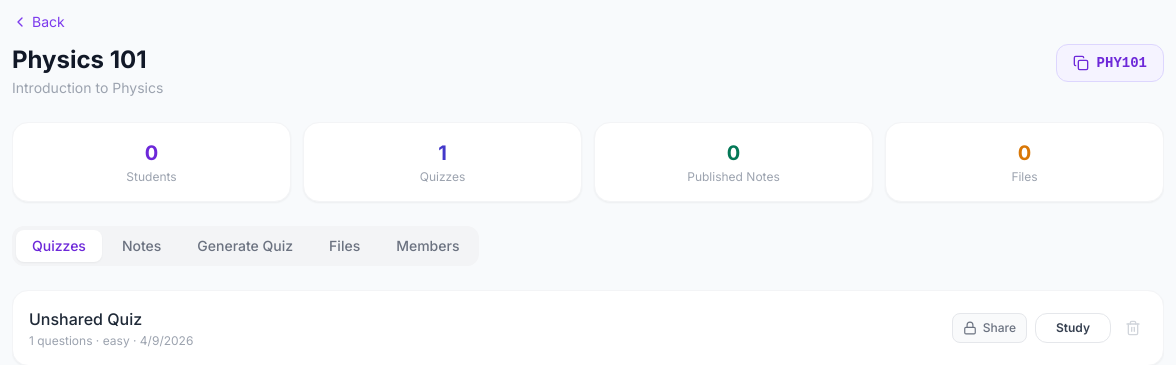
Test case: ClassView - FEAT-008 Quiz Sharing › AC-8.1.2: Clicking toggle calls backend PATCH and updates UI › toggles is_shared from false to true and updates UI
This screenshot has width=1176, height=365.
Expected: the heading "Physics 101" is shown, [12,44,163,76]
Step 1. Click the button "Quizzes" → (59, 246), box [16,230,102,262]
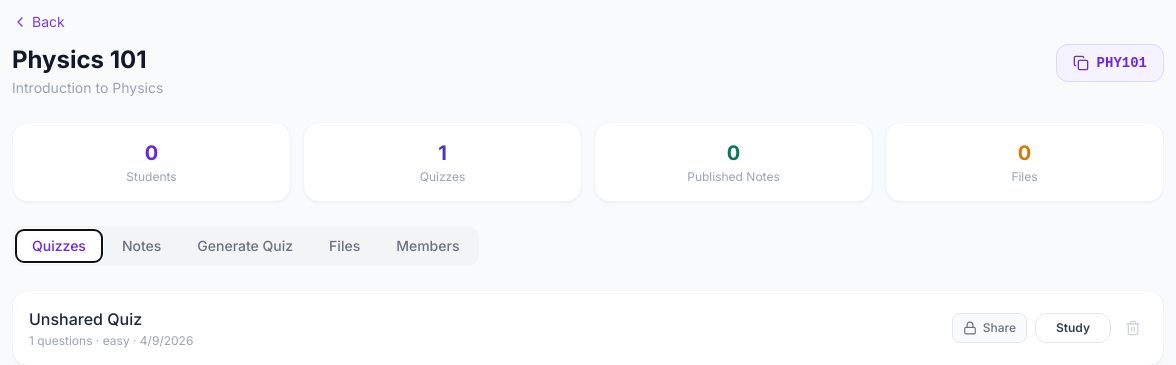
Expected: the text "Unshared Quiz" is shown, [29,309,142,329]
Step 2. Click the button "Share" → (989, 328), box [952,313,1027,343]
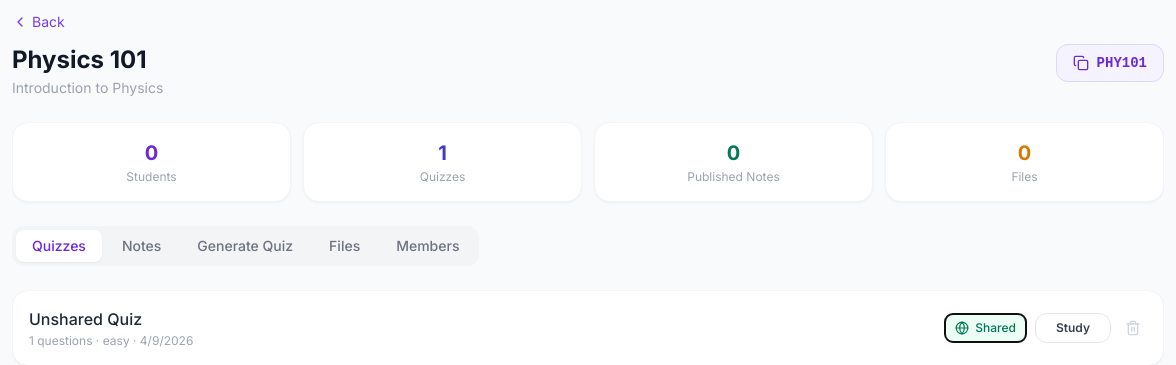
Now the button "Shared" is shown, box [944,313,1027,343]
